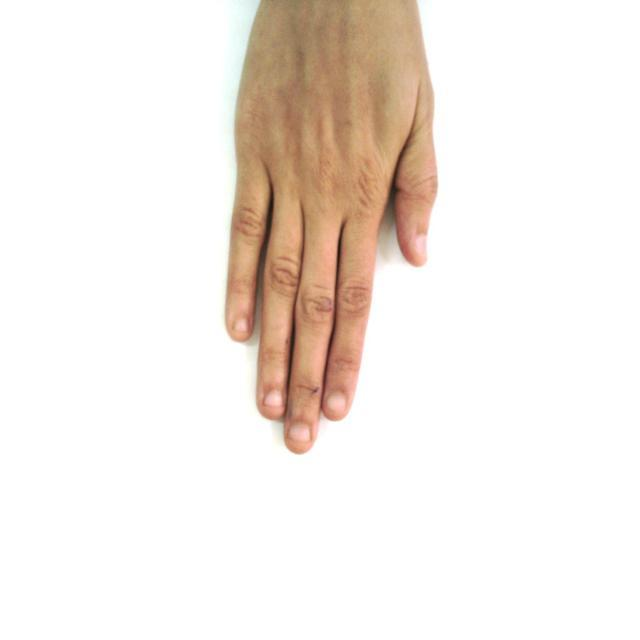Fingernail: (327, 393, 346, 416), (289, 424, 310, 444), (416, 234, 427, 259), (265, 391, 282, 406), (234, 319, 248, 332)
